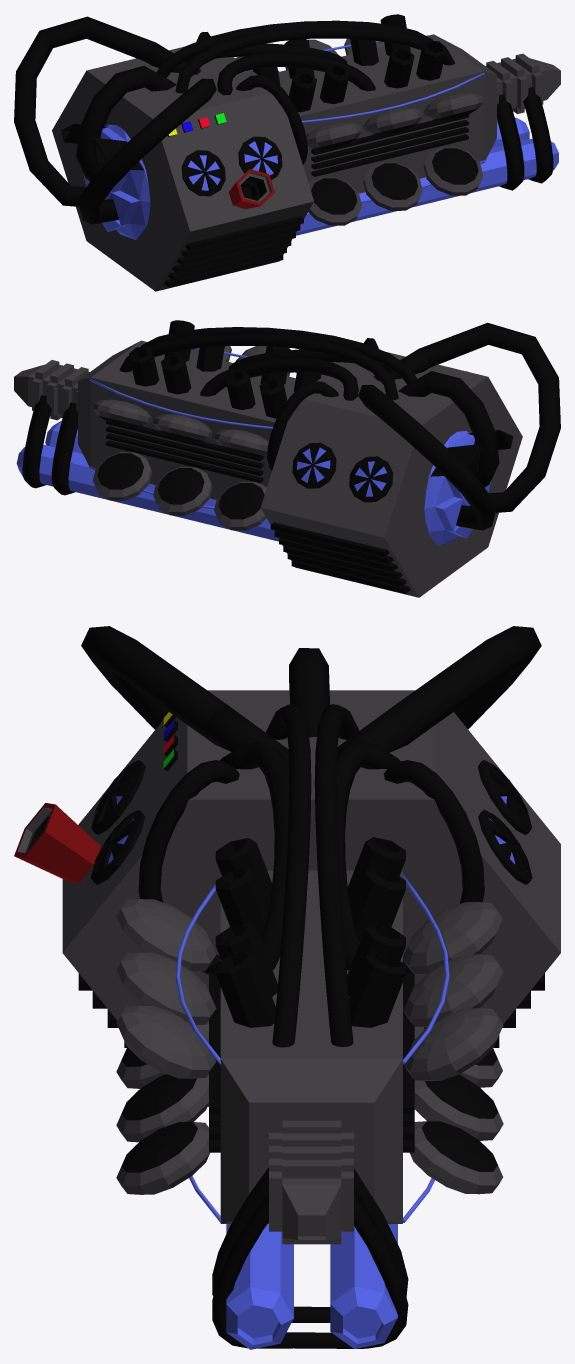
File: engene.fbx
The picture shows the model from 3 angles, top to bottom: view 1: azimuth 30°, elevation 25°; view 2: azimuth 150°, elevation 25°; view 3: azimuth 270°, elevation 25°; orthographic projection. The views are drawn at different scales.
Visible parts, largest first — view 1: Цилиндр.004, Cube, BézierCurve.013, BézierCurve.014, Икосфера, BézierCurve.010, BézierCurve.012, Цилиндр, BézierCurve.008, Сфера.003, Сфера.004, BézierCurve.011 (+29 smaller); view 2: Цилиндр.004, Cube, BézierCurve.014, BézierCurve.013, Икосфера, BézierCurve.011, BézierCurve.012, Цилиндр.001, BézierCurve.009, BézierCurve.010, Сфера.007, Сфера.008 (+28 smaller); view 3: Цилиндр.004, Cube, BézierCurve.014, BézierCurve.013, BézierCurve.010, BézierCurve.011, Цилиндр, BézierCurve.005, Цилиндр.001, Сфера.003, Сфера.002, Сфера.009 (+32 smaller).
Boxes of the visible parts, x1,y1,x2,y2 form: Цилиндр.004: (52, 47, 313, 291); Cube: (278, 34, 560, 193); BézierCurve.013: (14, 16, 201, 206); BézierCurve.014: (79, 78, 216, 224); Икосфера: (61, 124, 150, 239); BézierCurve.010: (175, 26, 454, 93); BézierCurve.012: (76, 65, 176, 181); Цилиндр: (296, 138, 558, 235); BézierCurve.008: (217, 52, 375, 95); Сфера.003: (423, 146, 483, 195); Сфера.004: (363, 162, 422, 210); BézierCurve.011: (156, 20, 433, 77); Цилиндр.004: (260, 352, 522, 597); Cube: (14, 340, 295, 499); BézierCurve.014: (373, 322, 560, 512); BézierCurve.013: (358, 385, 495, 530); Икосфера: (424, 430, 513, 546); BézierCurve.011: (119, 334, 398, 400); BézierCurve.012: (398, 371, 499, 487); Цилиндр.001: (16, 444, 278, 541); BézierCurve.009: (200, 357, 358, 400); BézierCurve.010: (141, 327, 417, 384); Сфера.007: (153, 466, 212, 515); Сфера.008: (93, 451, 152, 500); Цилиндр.004: (62, 690, 560, 1106); Cube: (220, 870, 402, 1244); BézierCurve.014: (81, 626, 288, 763); BézierCurve.013: (337, 626, 541, 754); BézierCurve.010: (265, 704, 311, 1047); BézierCurve.011: (314, 704, 359, 1047); Цилиндр: (226, 1224, 293, 1349); BézierCurve.005: (212, 1193, 408, 1348); Цилиндр.001: (330, 1224, 397, 1349); Сфера.003: (116, 1122, 209, 1194); Сфера.002: (116, 1005, 216, 1078); Сфера.009: (404, 1008, 503, 1080).
Bounding box in the file's own units: 470 × 185 × 246.
